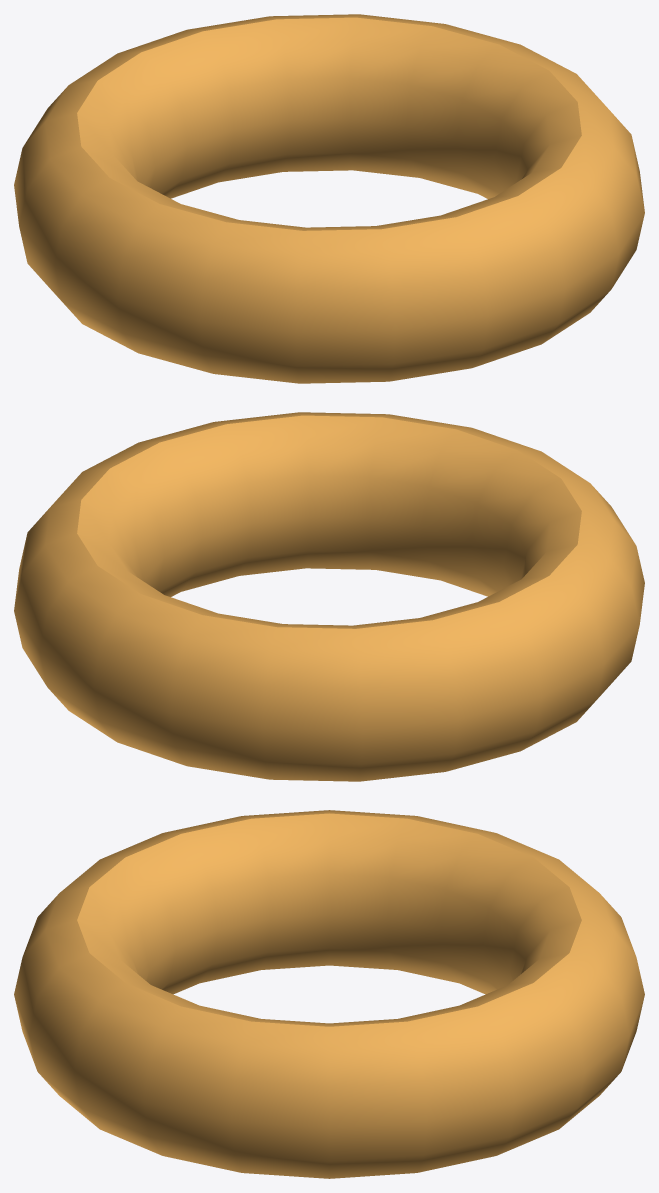
3 renders of one model, top to bottom at view 1: azimuth 30°, elevation 25°; view 2: azimuth 150°, elevation 25°; view 3: azimuth 270°, elevation 25°, orthographic.
Visible parts, largest first — view 1: Torus_01; view 2: Torus_01; view 3: Torus_01.
Boxes of the visible parts, x1,y1,x2,y2 form: Torus_01: (14, 14, 644, 383); Torus_01: (14, 412, 644, 781); Torus_01: (14, 810, 644, 1178).
Size of the model in its own units: 375 by 97.5 by 375.
